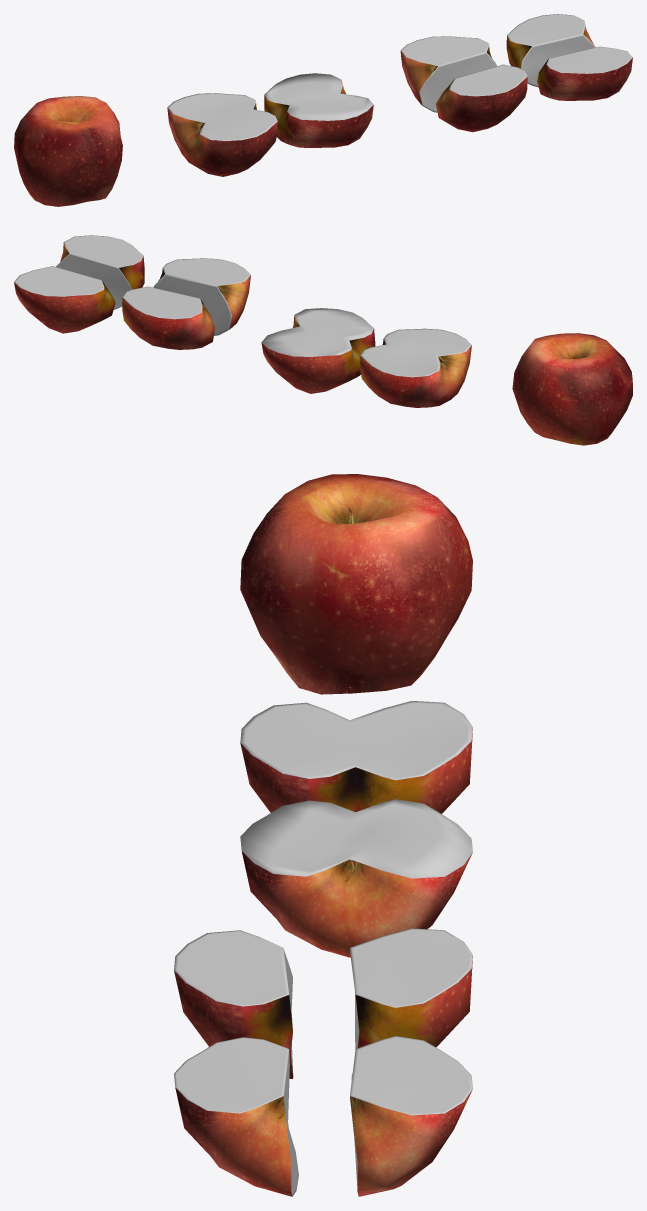
File: apple 1.fbx
3 renders of one model, top to bottom at view 1: azimuth 30°, elevation 25°; view 2: azimuth 150°, elevation 25°; view 3: azimuth 270°, elevation 25°, orthographic. The views are drawn at different scales.
Visible parts, largest first — view 1: apple, apple_cut.001, apple_cut, apple_cut.005, apple_cut.002, apple_cut.004, apple_cut.003; view 2: apple, apple_cut.001, apple_cut, apple_cut.003, apple_cut.002, apple_cut.005, apple_cut.004; view 3: apple, apple_cut, apple_cut.001, apple_cut.003, apple_cut.004, apple_cut.002, apple_cut.005.
Part boxes in pixels (x1,y1,x2,y2): apple: (14, 96, 122, 206); apple_cut.001: (167, 93, 277, 176); apple_cut: (264, 73, 373, 147); apple_cut.005: (436, 64, 527, 132); apple_cut.002: (400, 36, 496, 112); apple_cut.004: (537, 46, 632, 100); apple_cut.003: (506, 14, 595, 87); apple: (512, 333, 632, 445); apple_cut.001: (360, 328, 471, 407); apple_cut: (261, 308, 375, 393); apple_cut.003: (14, 266, 115, 333); apple_cut.002: (122, 286, 214, 349); apple_cut.005: (153, 258, 250, 335); apple_cut.004: (56, 235, 144, 309); apple: (240, 474, 472, 694); apple_cut: (240, 799, 472, 957); apple_cut.001: (240, 701, 472, 813); apple_cut.003: (350, 1036, 472, 1196); apple_cut.004: (174, 1037, 298, 1196); apple_cut.002: (350, 928, 472, 1049); apple_cut.005: (174, 930, 293, 1078).
Bounding box in the file's own units: 49 × 8.08 × 10.92.
